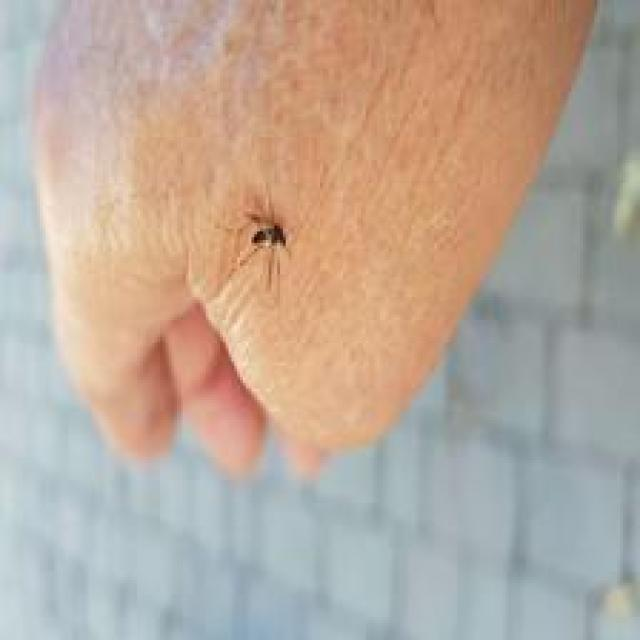Aedes albopictus: (232, 210, 292, 290)
